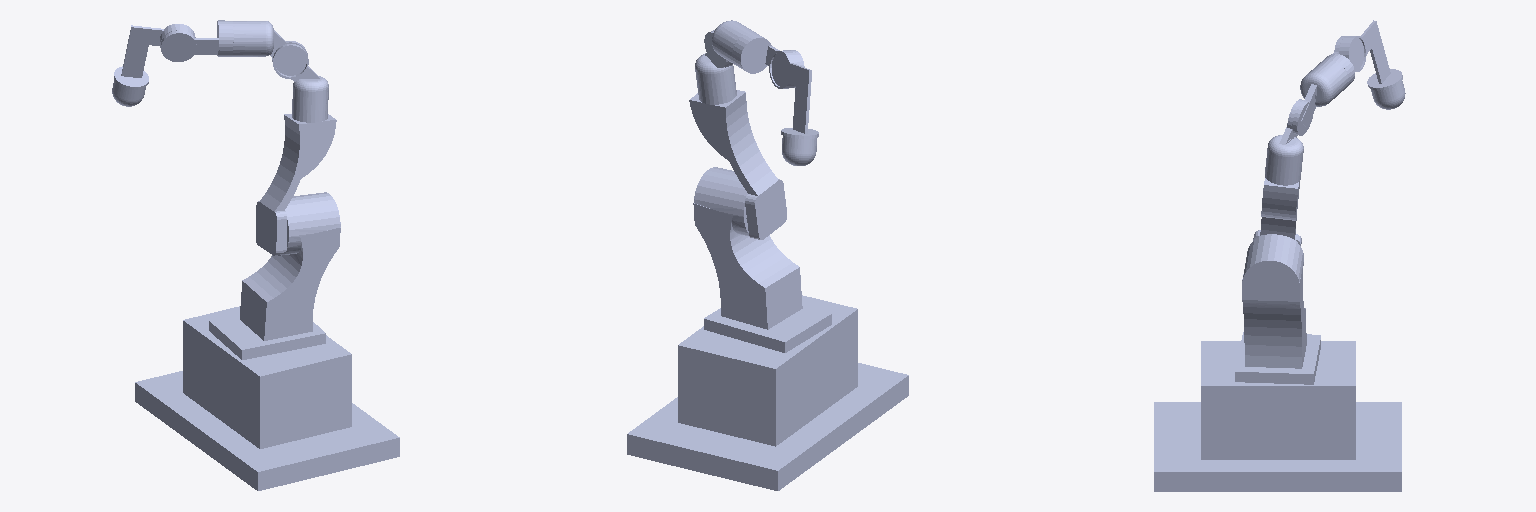
The robot description file, URDF, robot "arm":
<?xml version="1.0" encoding="utf-8"?>
<!-- This URDF was automatically created by SolidWorks to URDF Exporter! Originally created by [author] ([email redacted]) 
     Commit Version: 1.6.0-4-g7f85cfe  Build Version: 1.6.7995.38578
     For more information, please see http://wiki.ros.org/sw_urdf_exporter -->
<robot
  name="arm">
  <link name="world" />
  <joint name="world_to_base" type="fixed">
    <parent link="world" />
    <child link="base_link" />
    <origin xyz="0 0 0" rpy="0 0 0" />
  </joint>

  <link
    name="base_link">
    <inertial>
      <origin
        xyz="1.85083362438032E-18 0.0583114445096745 -6.04448109352338E-18"
        rpy="0 0 0" />
      <mass
        value="7.3223908284065" />
      <inertia
        ixx="0.0770682750012723"
        ixy="2.85087197106203E-19"
        ixz="-8.06021717339874E-18"
        iyy="0.0891017385530815"
        iyz="2.2146695351118E-18"
        izz="0.0432617521929433" />
    </inertial>
    <visual>
      <origin
        xyz="0 0 0"
        rpy="0 0 0" />
      <geometry>
        <mesh
          filename="package://arm/meshes/base_link.STL" />
      </geometry>
      <material
        name="">
        <color
          rgba="0.792156862745098 0.819607843137255 0.933333333333333 1" />
      </material>
    </visual>
    <collision>
      <origin
        xyz="0 0 0"
        rpy="0 0 0" />
      <geometry>
        <mesh
          filename="package://arm/meshes/base_link.STL" />
      </geometry>
    </collision>
  </link>
  <link
    name="l1">
    <inertial>
      <origin
        xyz="0.02292 0.11716 0.0018279"
        rpy="0 0 0" />
      <mass
        value="2.153" />
      <inertia
        ixx="0.0065228"
        ixy="-0.00164"
        ixz="4.5704E-09"
        iyy="0.0039907"
        iyz="8.9876E-09"
        izz="0.0071528" />
    </inertial>
    <visual>
      <origin
        xyz="0 0 0"
        rpy="0 0 0" />
      <geometry>
        <mesh
          filename="package://arm/meshes/l1.STL" />
      </geometry>
      <material
        name="">
        <color
          rgba="0.79216 0.81961 0.93333 1" />
      </material>
    </visual>
    <collision>
      <origin
        xyz="0 0 0"
        rpy="0 0 0" />
      <geometry>
        <mesh
          filename="package://arm/meshes/l1.STL" />
      </geometry>
    </collision>
  </link>
  <joint
    name="base-l1"
    type="continuous">
    <origin
      xyz="0 0 0.09398"
      rpy="1.5707963267949 0 -0.0800930115306545" />
    <parent
      link="base_link" />
    <child
      link="l1" />
    <axis
      xyz="0 1 0" />
  </joint>
  <link
    name="l2">
    <inertial>
      <origin
        xyz="5.8426E-05 0.045205 -0.025174"
        rpy="0 0 0" />
      <mass
        value="0.619" />
      <inertia
        ixx="0.0028408"
        ixy="-2.8559E-06"
        ixz="4.6195E-07"
        iyy="0.00058764"
        iyz="0.00044293"
        izz="0.002663" />
    </inertial>
    <visual>
      <origin
        xyz="0 0 0"
        rpy="0 0 0" />
      <geometry>
        <mesh
          filename="package://arm/meshes/l2.STL" />
      </geometry>
      <material
        name="">
        <color
          rgba="0.79216 0.81961 0.93333 1" />
      </material>
    </visual>
    <collision>
      <origin
        xyz="0 0 0"
        rpy="0 0 0" />
      <geometry>
        <mesh
          filename="package://arm/meshes/l2.STL" />
      </geometry>
    </collision>
  </link>
  <joint
    name="l1-l2"
    type="continuous">
    <origin
      xyz="0.017859 0.24958 0.0033036"
      rpy="-1.5708 -1.4759 1.4994" />
    <parent
      link="l1" />
    <child
      link="l2" />
    <axis
      xyz="0 0 1" />
  </joint>
  <link
    name="l3">
    <inertial>
      <origin
        xyz="0.00085169 0.039355 1.8994E-05"
        rpy="0 0 0" />
      <mass
        value="0.16787" />
      <inertia
        ixx="0.00010686"
        ixy="-7.4448E-06"
        ixz="-9.6151E-08"
        iyy="6.635E-05"
        iyz="-1.7305E-07"
        izz="0.00011252" />
    </inertial>
    <visual>
      <origin
        xyz="0 0 0"
        rpy="0 0 0" />
      <geometry>
        <mesh
          filename="package://arm/meshes/l3.STL" />
      </geometry>
      <material
        name="">
        <color
          rgba="0.79216 0.81961 0.93333 1" />
      </material>
    </visual>
    <collision>
      <origin
        xyz="0 0 0"
        rpy="0 0 0" />
      <geometry>
        <mesh
          filename="package://arm/meshes/l3.STL" />
      </geometry>
    </collision>
  </link>
  <joint
    name="l2-l3"
    type="continuous">
    <origin
      xyz="0 0.16492 -0.049402"
      rpy="-3.1416 -1.177 3.1416" />
    <parent
      link="l2" />
    <child
      link="l3" />
    <axis
      xyz="0 1 0" />
  </joint>
  <link
    name="l4">
    <inertial>
      <origin
        xyz="-0.028278 -0.052578 -0.010136"
        rpy="0 0 0" />
      <mass
        value="0.19195" />
      <inertia
        ixx="0.00018719"
        ixy="-4.6919E-05"
        ixz="-1.2959E-06"
        iyy="9.0937E-05"
        iyz="-2.4333E-06"
        izz="0.00021672" />
    </inertial>
    <visual>
      <origin
        xyz="0 0 0"
        rpy="0 0 0" />
      <geometry>
        <mesh
          filename="package://arm/meshes/l4.STL" />
      </geometry>
      <material
        name="">
        <color
          rgba="0.79216 0.81961 0.93333 1" />
      </material>
    </visual>
    <collision>
      <origin
        xyz="0 0 0"
        rpy="0 0 0" />
      <geometry>
        <mesh
          filename="package://arm/meshes/l4.STL" />
      </geometry>
    </collision>
  </link>
  <joint
    name="l3-l4"
    type="continuous">
    <origin
      xyz="0.031956 0.10002 0"
      rpy="-3.1416 0 -1.5733" />
    <parent
      link="l3" />
    <child
      link="l4" />
    <axis
      xyz="0 0 1" />
  </joint>
  <link
    name="l5">
    <inertial>
      <origin
        xyz="-0.0080882 0.063108 1.1102E-16"
        rpy="0 0 0" />
      <mass
        value="0.076251" />
      <inertia
        ixx="0.00010008"
        ixy="2.2555E-05"
        ixz="-1.1858E-20"
        iyy="3.119E-05"
        iyz="1.2705E-20"
        izz="0.00010288" />
    </inertial>
    <visual>
      <origin
        xyz="0 0 0"
        rpy="0 0 0" />
      <geometry>
        <mesh
          filename="package://arm/meshes/l5.STL" />
      </geometry>
      <material
        name="">
        <color
          rgba="0.79216 0.81961 0.93333 1" />
      </material>
    </visual>
    <collision>
      <origin
        xyz="0 0 0"
        rpy="0 0 0" />
      <geometry>
        <mesh
          filename="package://arm/meshes/l5.STL" />
      </geometry>
    </collision>
  </link>
  <joint
    name="l4-l5"
    type="continuous">
    <origin
      xyz="-0.033037 -0.065696 -0.010374"
      rpy="0 1.2686 -3.1416" />
    <parent
      link="l4" />
    <child
      link="l5" />
    <axis
      xyz="0 1 0" />
  </joint>
  <link
    name="l6">
    <inertial>
      <origin
        xyz="0.024343 -0.018687 -0.0057442"
        rpy="0 0 0" />
      <mass
        value="0.058585" />
      <inertia
        ixx="6.5253E-05"
        ixy="3.7647E-05"
        ixz="-5.1104E-06"
        iyy="5.9674E-05"
        iyz="3.8831E-06"
        izz="0.00011941" />
    </inertial>
    <visual>
      <origin
        xyz="0 0 0"
        rpy="0 0 0" />
      <geometry>
        <mesh
          filename="package://arm/meshes/l6.STL" />
      </geometry>
      <material
        name="">
        <color
          rgba="0.79216 0.81961 0.93333 1" />
      </material>
    </visual>
    <collision>
      <origin
        xyz="0 0 0"
        rpy="0 0 0" />
      <geometry>
        <mesh
          filename="package://arm/meshes/l6.STL" />
      </geometry>
    </collision>
  </link>
  <joint
    name="l5-l6"
    type="continuous">
    <origin
      xyz="0 0.11044 0"
      rpy="1.5708 -0.12954 1.5708" />
    <parent
      link="l5" />
    <child
      link="l6" />
    <axis
      xyz="0 0 1" />
  </joint>
  <link
    name="hand">
    <inertial>
      <origin
        xyz="5.5511E-16 0.039165 3.0531E-16"
        rpy="0 0 0" />
      <mass
        value="0.083515" />
      <inertia
        ixx="2.5445E-05"
        ixy="-5.9292E-21"
        ixz="-1.6941E-21"
        iyy="2.4932E-05"
        iyz="5.294E-21"
        izz="2.5445E-05" />
    </inertial>
    <visual>
      <origin
        xyz="0 0 0"
        rpy="0 0 0" />
      <geometry>
        <mesh
          filename="package://arm/meshes/hand.STL" />
      </geometry>
      <material
        name="">
        <color
          rgba="0.79216 0.81961 0.93333 1" />
      </material>
    </visual>
    <collision>
      <origin
        xyz="0 0 0"
        rpy="0 0 0" />
      <geometry>
        <mesh
          filename="package://arm/meshes/hand.STL" />
      </geometry>
    </collision>
  </link>
  <joint
    name="l6-hand"
    type="continuous">
    <origin
      xyz="0.059232 -0.063903 -0.0024906"
      rpy="-3.1416 -0.39054 0" />
    <parent
      link="l6" />
    <child
      link="hand" />
    <axis
      xyz="0 1 0" />
  </joint>
</robot>

--- What the picture shows (computed from the rendered views, not written in the file) ---
Views: 3 orthographic renders of the robot side by side, from view 1: azimuth 30°, elevation 25°; view 2: azimuth 150°, elevation 25°; view 3: azimuth 270°, elevation 25°.
Model arm with 9 links and 8 joints (7 continuous, 1 fixed), rooted at world, posed all joints at 0.
Visible links, largest first — view 1: base_link, l1, l2, l4, l6, l3, l5, hand; view 2: base_link, l1, l2, l6, l3, l5, l4, hand; view 3: base_link, l1, l4, l6, l2, l3, hand.
Link boxes in pixels (x1=…): base_link: x1=135, y1=306, x2=399, y2=490; l1: x1=209, y1=192, x2=340, y2=359; l2: x1=256, y1=114, x2=336, y2=255; l4: x1=232, y1=21, x2=307, y2=75; l6: x1=114, y1=24, x2=195, y2=89; l3: x1=273, y1=44, x2=328, y2=122; l5: x1=161, y1=20, x2=233, y2=61; hand: x1=112, y1=80, x2=145, y2=106; base_link: x1=627, y1=295, x2=908, y2=490; l1: x1=693, y1=167, x2=831, y2=352; l2: x1=689, y1=90, x2=786, y2=239; l6: x1=769, y1=50, x2=818, y2=138; l3: x1=695, y1=53, x2=736, y2=104; l5: x1=732, y1=32, x2=804, y2=87; l4: x1=704, y1=20, x2=755, y2=67; hand: x1=782, y1=136, x2=816, y2=165; base_link: x1=1154, y1=341, x2=1401, y2=491; l1: x1=1235, y1=234, x2=1320, y2=384; l4: x1=1292, y1=60, x2=1347, y2=135; l6: x1=1339, y1=20, x2=1402, y2=90; l2: x1=1253, y1=178, x2=1301, y2=245; l3: x1=1265, y1=99, x2=1303, y2=185; hand: x1=1371, y1=81, x2=1405, y2=109.
Size in the robot's own frame: 0.3037 by 0.3858 by 0.6679 metres.
8 mesh visuals loaded from 8 distinct referenced files (8 binary STL).